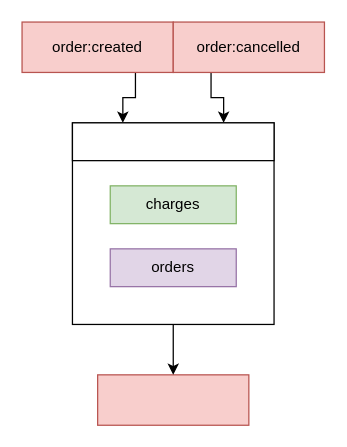
This 347x447 diagram has some shape labels left out. The shapes that lost their labels are listed below. From the top down, each one's centre as x and y in pixels, then its label:
the point at 172,141: Payments Service
the point at 172,399: charge:created
